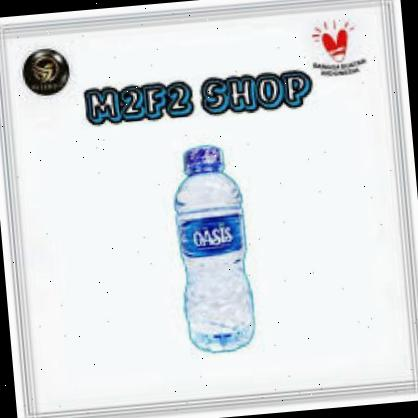bottle: (161, 140, 280, 367)
cap: (180, 142, 230, 178)
label: (175, 211, 252, 258)
